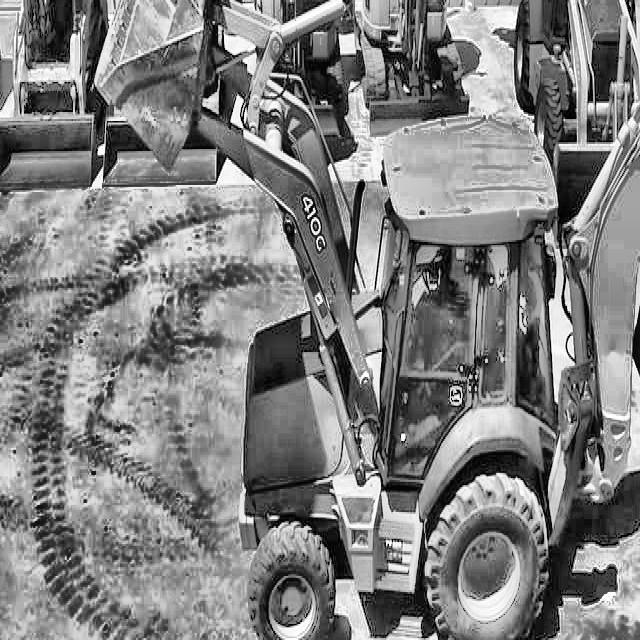buldozerpayloadergrader: (0, 0, 97, 192)
excavator: (356, 0, 474, 130), (250, 0, 352, 144)
